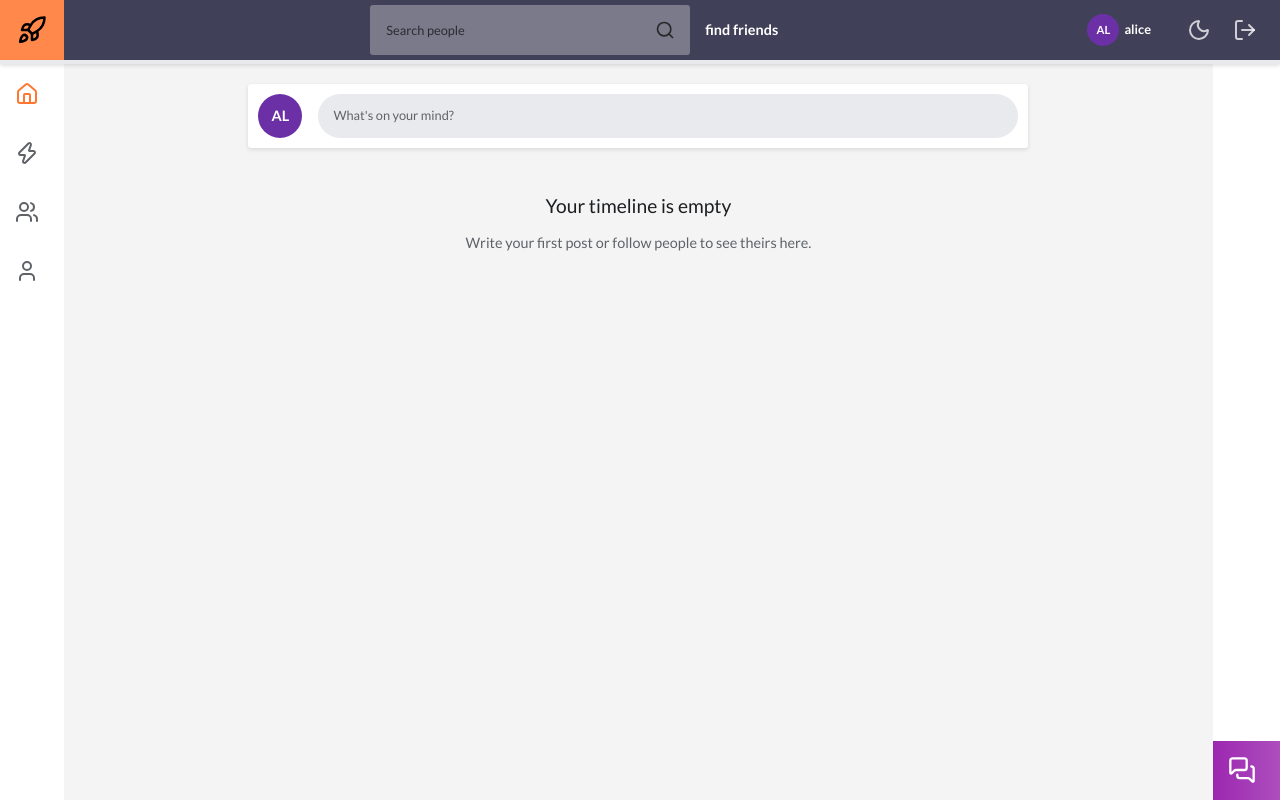
Test: own posts › publishes a post from the composer and reloads the feed
The image size is (1280, 800).
Expected: the text "Your timeline is empty" is shown, [546, 190, 731, 223]
Click the button "What's on your mind?" at (394, 115), box [318, 94, 1018, 138]
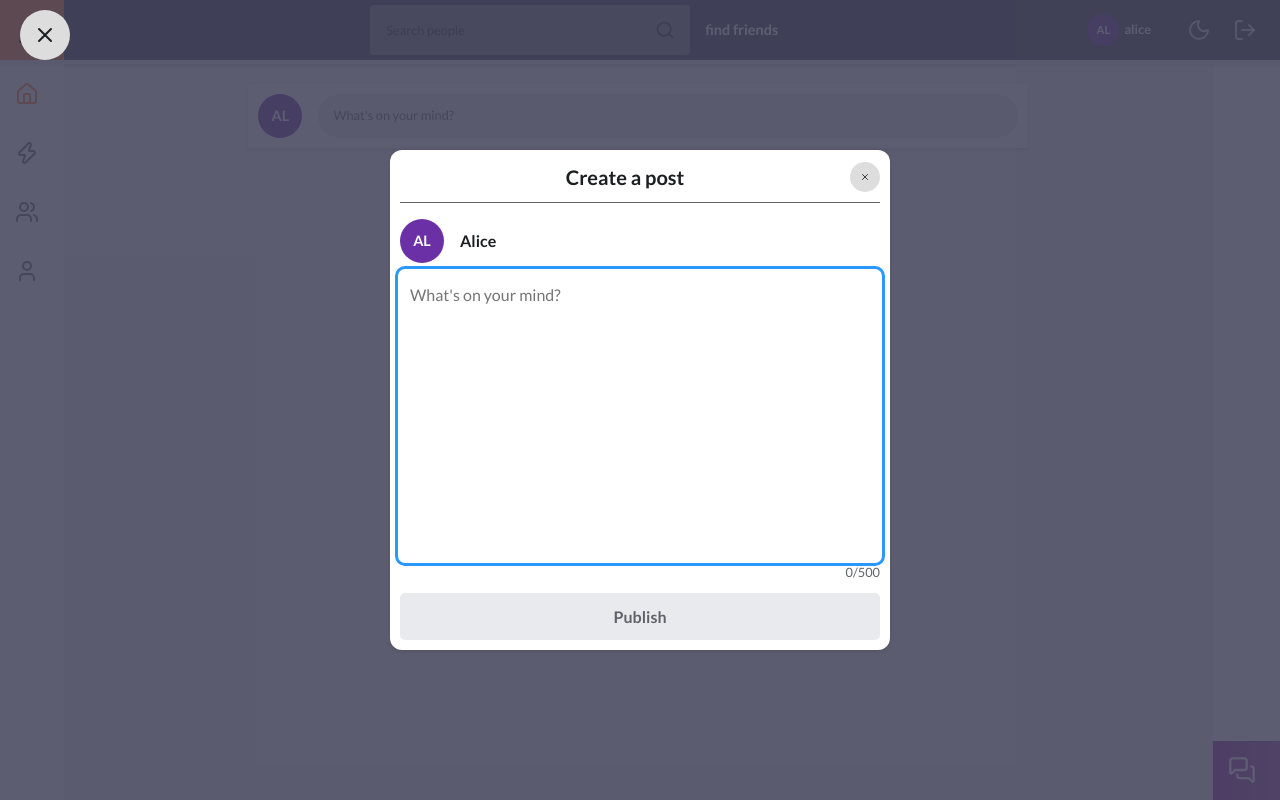
Expected: the button "Publish" is disabled, [400, 593, 880, 640]
Type "  Hello world  " into the text box named "Post content" at (640, 416), box [400, 271, 880, 561]
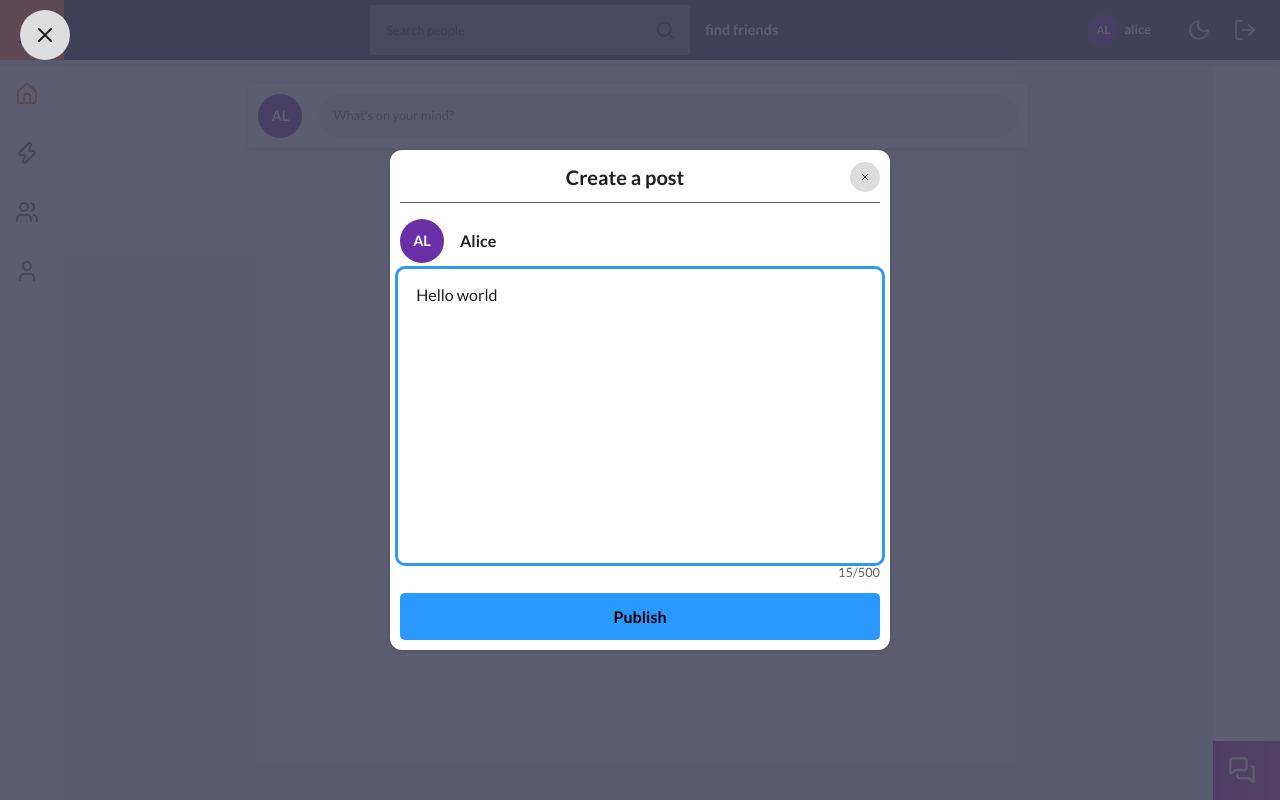
Click the button "Publish" at (640, 616), box [400, 593, 880, 640]
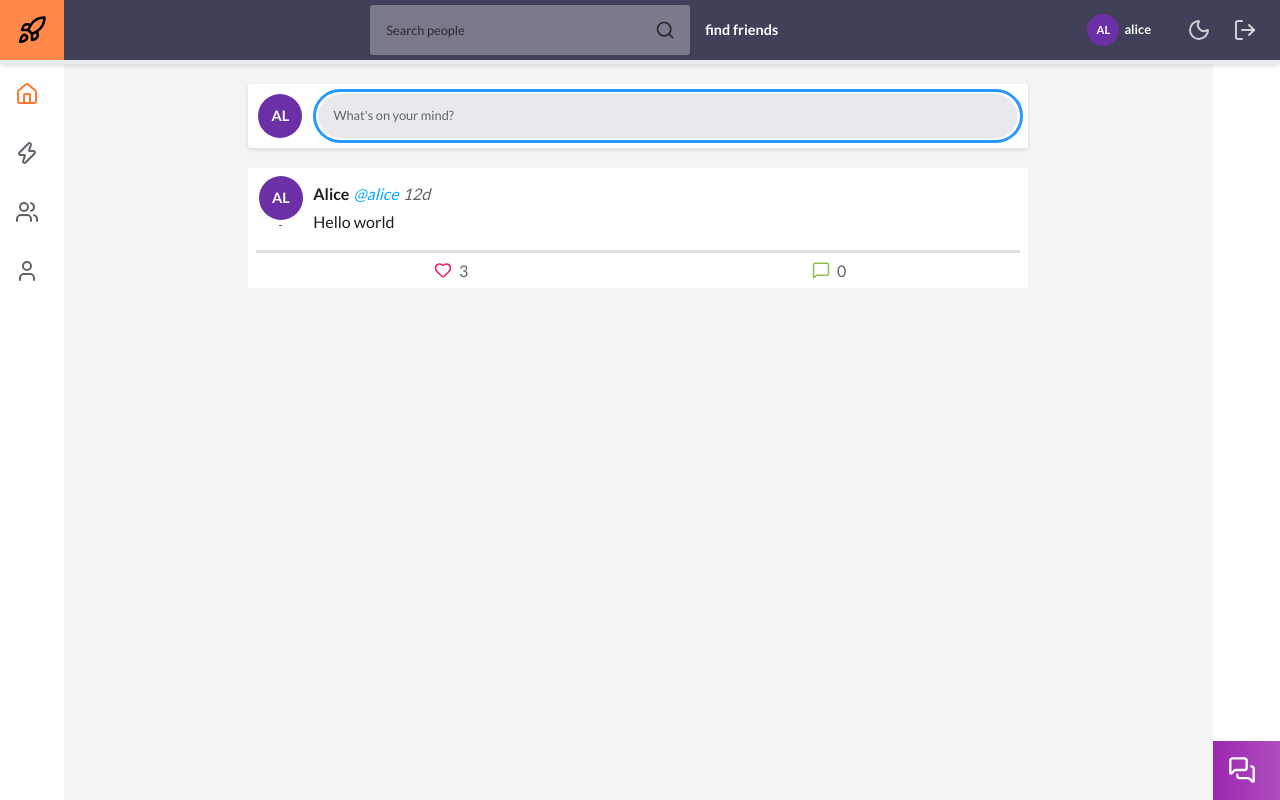
Expected: the element named "Post by alice" shows "Hello world", [313, 212, 394, 231]
Expected: the dialog is gone
